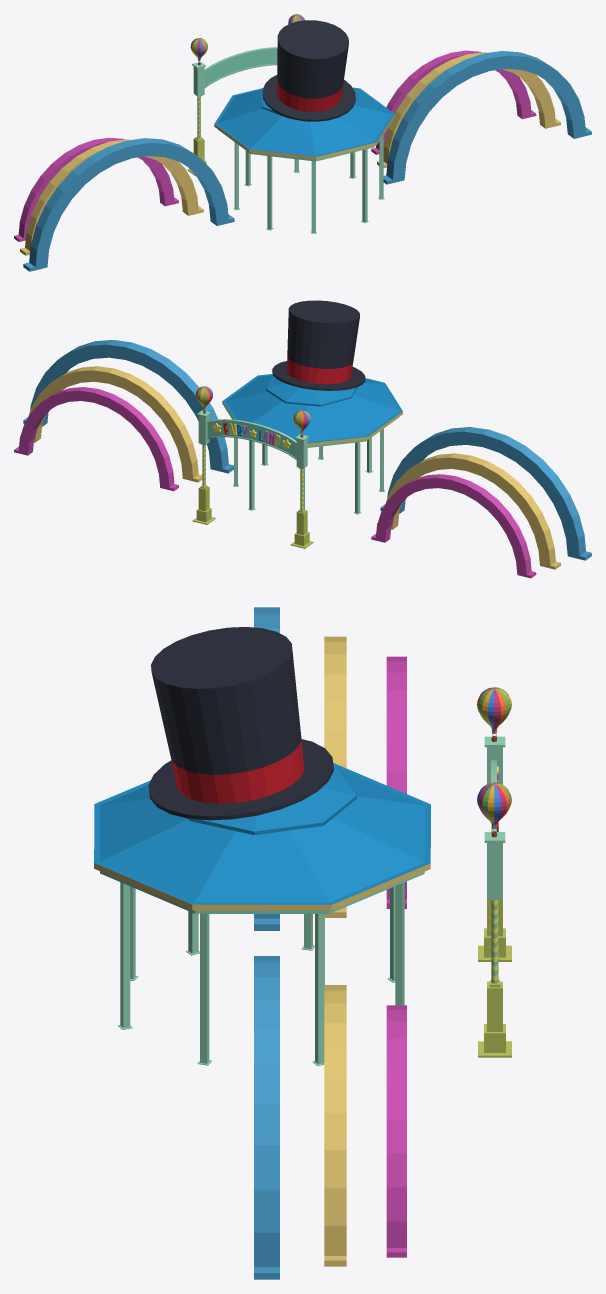
File: Welcome_sign_D4.fbx
The picture shows the model from 3 angles, top to bottom: view 1: azimuth 30°, elevation 25°; view 2: azimuth 150°, elevation 25°; view 3: azimuth 270°, elevation 25°; orthographic projection. The views are drawn at different scales.
Visible parts, largest first — view 1: Cylinder.041; view 2: Cylinder.041; view 3: Cylinder.041.
Part boxes in pixels (<box>): Cylinder.041: <box>14,14,591,271</box>; Cylinder.041: <box>14,300,591,578</box>; Cylinder.041: <box>94,607,511,1279</box>.
Bounding box in the file's own units: 3069 × 921 × 987.
Materials: 3 (3 with a texture image).
